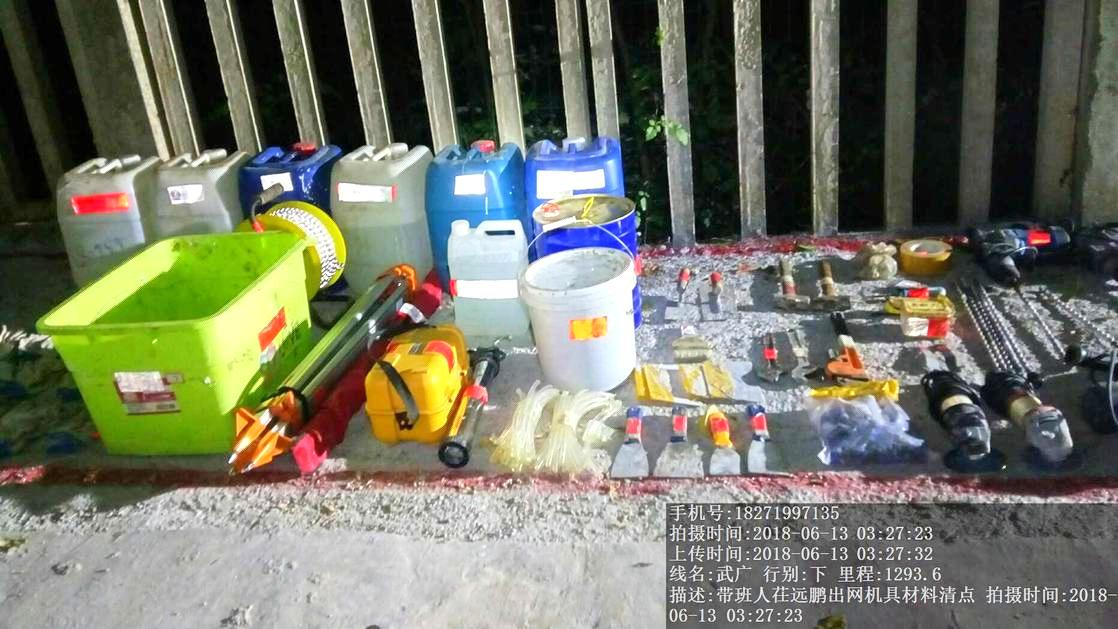T: (32, 230, 314, 445)
